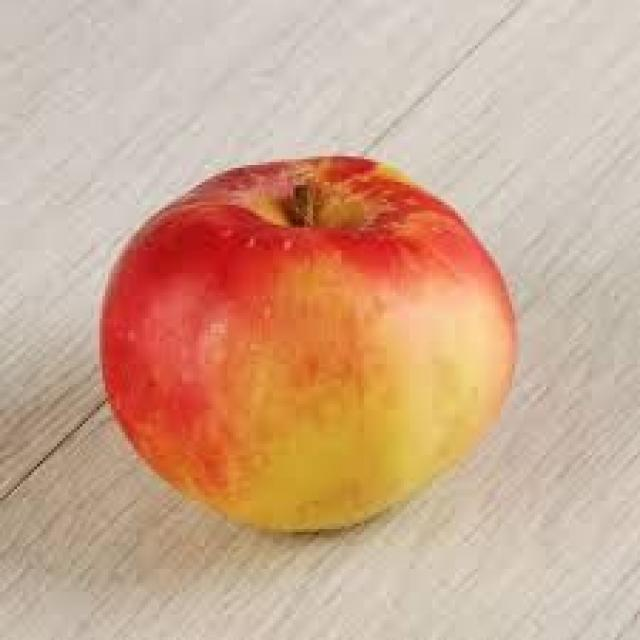Fresh Apple: (90, 173, 498, 520)
